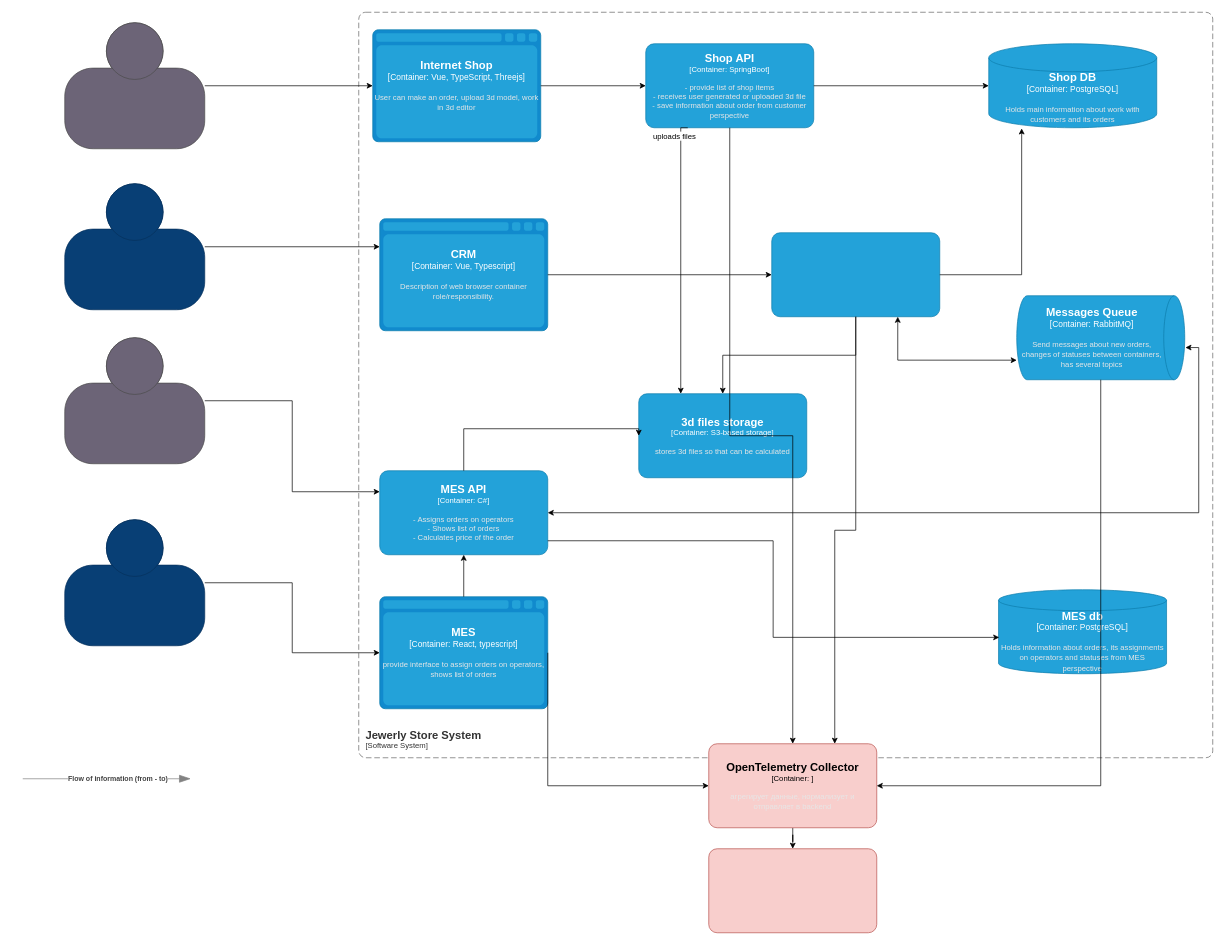
Image size: 1225x945. Some labels were removed from this diagram. Each missing label, with the centre of its shape:
API user [Person] Description of external person.: [134,400]
CRM API [Container: SpringBoot] Description of container role/responsibility.: [855,274]
Customer [Person] Description of external person.: [134,85]
Jaeger [Container: ] хранилище и интерфейс для визуализации трейсингов: [792,890]
Operator [Person] Takes order in work, manufactures jewerly: [134,582]
Seller [Person] Operates with order, confirms manufacturing for the user: [134,246]
